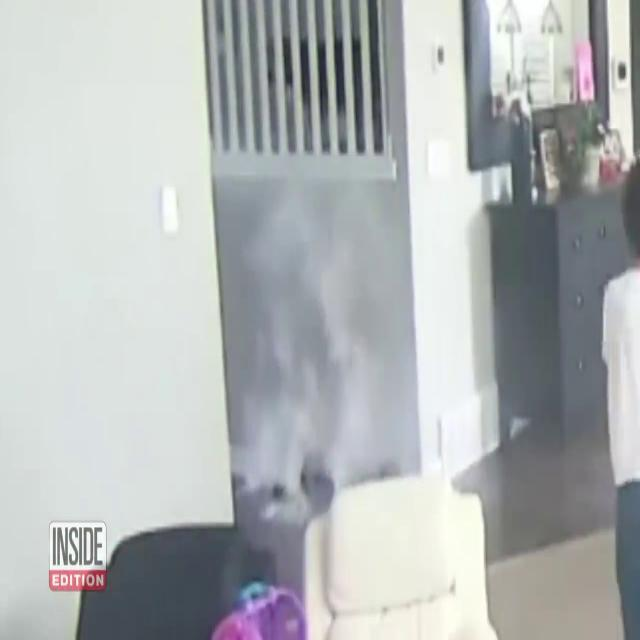Smoke: (217, 164, 385, 546)
